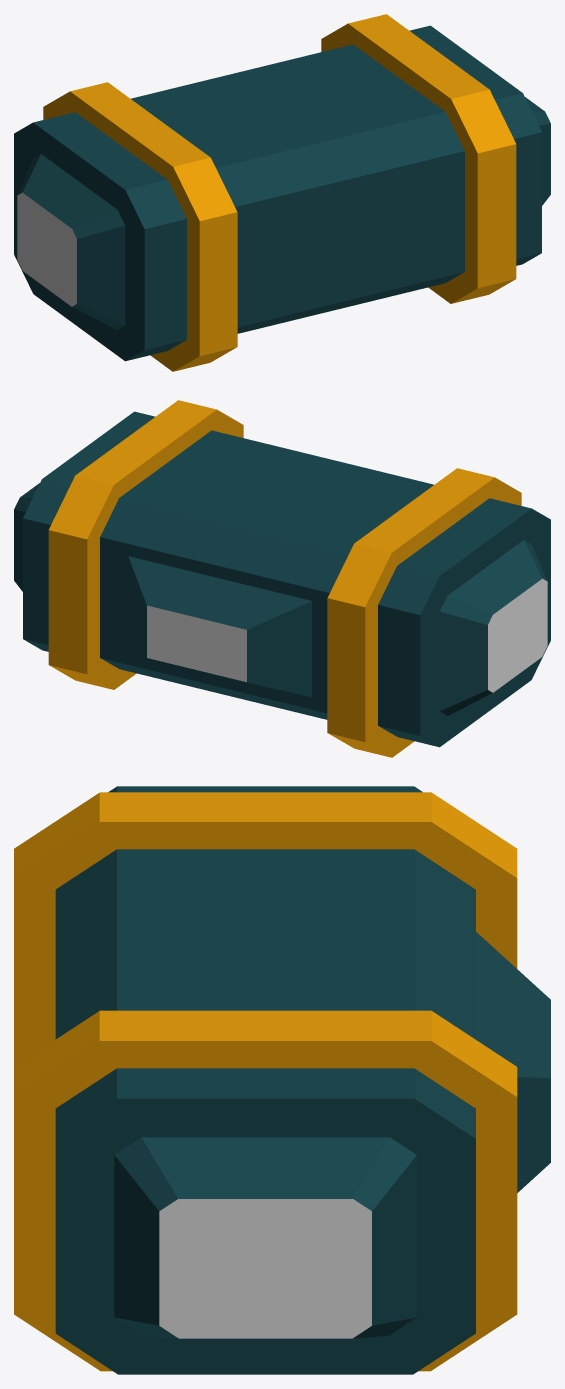
Rendered from 01_Prop_Caja_02.fbx.
3 views of the same model, one above another, from view 1: azimuth 30°, elevation 25°; view 2: azimuth 150°, elevation 25°; view 3: azimuth 270°, elevation 25° (orthographic). The views are drawn at different scales.
Parts seen in each view (by area): view 1: Cube.001; view 2: Cube.001; view 3: Cube.001.
Part boxes in pixels (x1,y1,x2,y2): Cube.001: (14, 14, 550, 371); Cube.001: (14, 400, 550, 757); Cube.001: (14, 786, 550, 1374).
Bounding box in the file's own units: 767 × 320 × 471.
